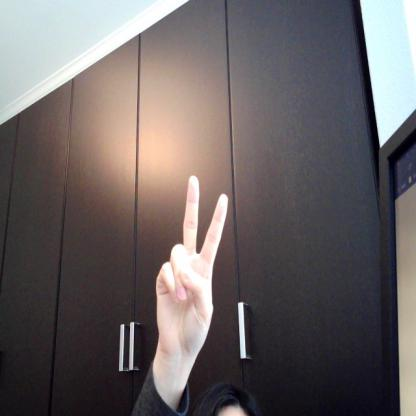two: (151, 176, 231, 361)
